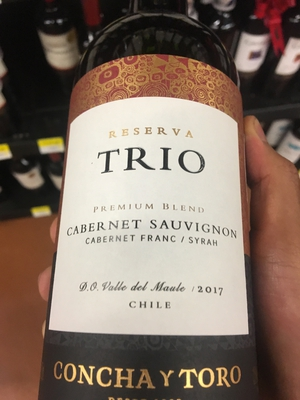trio cabernet sauvignon: (39, 20, 258, 400)
